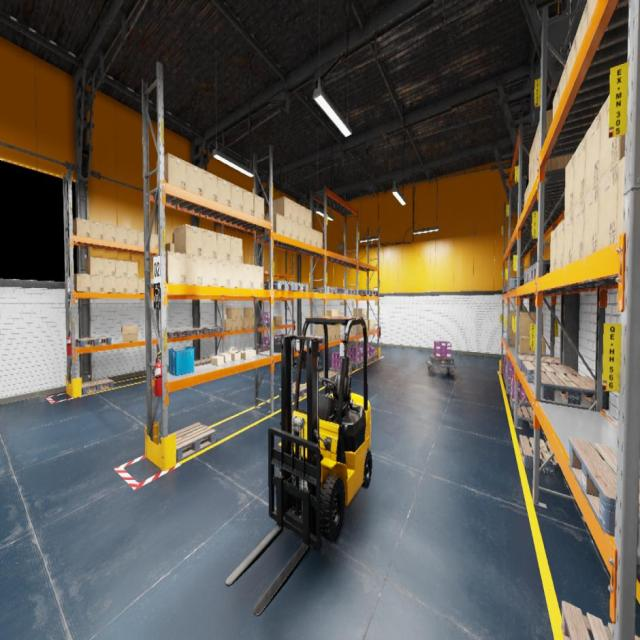box: (599, 95, 625, 182), (598, 164, 618, 250), (585, 109, 600, 197), (584, 183, 599, 257), (156, 153, 186, 190), (156, 250, 186, 284), (573, 133, 586, 209), (546, 137, 574, 171), (175, 224, 202, 257), (573, 199, 584, 262), (538, 109, 552, 158), (576, 0, 588, 57), (617, 156, 625, 241), (564, 152, 574, 218), (520, 313, 544, 337), (186, 162, 203, 195), (519, 336, 545, 356), (564, 210, 573, 266), (567, 32, 577, 82), (187, 254, 202, 285), (202, 228, 217, 258), (203, 170, 217, 202), (265, 213, 284, 236), (217, 176, 231, 206), (273, 196, 291, 219), (203, 257, 217, 286), (556, 219, 564, 269), (217, 232, 230, 261), (230, 236, 243, 264), (217, 260, 230, 286), (86, 257, 104, 275), (73, 218, 90, 237), (550, 228, 557, 272), (232, 183, 243, 211), (121, 325, 139, 342), (242, 263, 254, 288), (509, 310, 526, 327), (74, 273, 90, 291), (559, 61, 566, 102), (90, 220, 104, 240), (231, 262, 242, 287), (243, 189, 253, 215), (254, 194, 264, 219), (316, 325, 332, 340), (321, 309, 336, 325), (90, 275, 104, 292), (588, 0, 597, 26), (103, 259, 116, 276), (553, 83, 559, 119), (104, 223, 115, 242), (115, 260, 127, 277), (254, 266, 263, 288), (116, 226, 127, 244), (115, 276, 126, 293), (104, 276, 115, 293), (128, 277, 138, 294), (128, 228, 138, 245), (534, 126, 538, 166), (229, 346, 240, 360), (292, 200, 299, 222), (128, 262, 138, 277), (531, 138, 535, 175), (285, 217, 292, 238), (353, 308, 365, 320), (292, 220, 299, 240), (508, 328, 516, 345), (299, 204, 305, 226), (211, 355, 223, 365), (219, 352, 231, 362), (222, 319, 232, 331), (299, 223, 305, 242), (306, 226, 312, 245), (306, 208, 312, 227), (150, 234, 158, 248), (365, 319, 375, 330), (350, 323, 361, 333), (529, 147, 532, 182), (240, 350, 250, 360), (227, 308, 237, 318), (244, 349, 256, 357), (317, 232, 323, 248), (312, 228, 317, 247), (244, 308, 253, 318), (233, 308, 242, 318), (138, 278, 144, 293), (138, 231, 144, 246), (242, 318, 250, 329), (274, 316, 282, 325), (534, 160, 537, 183), (531, 168, 534, 190), (528, 176, 531, 196), (332, 325, 336, 340), (166, 243, 173, 251), (232, 319, 237, 330), (336, 326, 340, 339), (249, 318, 254, 328), (238, 318, 242, 329), (254, 318, 258, 328), (526, 183, 528, 202), (537, 157, 539, 175), (365, 320, 368, 332), (524, 190, 526, 207), (362, 321, 365, 332), (336, 309, 340, 316), (173, 232, 174, 243), (151, 279, 153, 283)
forklift: (276, 316, 372, 542)
pallets: (568, 437, 640, 540), (561, 601, 640, 639), (534, 370, 609, 410), (160, 422, 215, 462), (519, 434, 566, 480), (522, 360, 581, 383), (516, 354, 562, 370), (82, 378, 114, 395), (513, 404, 534, 429), (280, 383, 306, 401), (524, 267, 550, 284), (76, 337, 112, 348), (509, 392, 532, 409), (530, 262, 549, 281), (264, 280, 294, 290), (429, 355, 454, 365), (319, 371, 339, 383), (288, 282, 308, 292), (183, 328, 206, 336), (304, 336, 324, 345), (330, 366, 352, 374), (166, 330, 188, 338), (313, 286, 337, 293), (510, 278, 524, 289), (349, 359, 364, 368), (200, 327, 222, 333), (510, 282, 524, 291), (361, 290, 378, 296), (355, 290, 372, 295), (194, 359, 206, 366), (363, 356, 372, 364), (369, 354, 379, 361), (342, 289, 355, 294), (258, 323, 274, 327), (199, 358, 210, 363), (337, 288, 345, 294), (258, 348, 270, 352), (506, 384, 511, 392), (252, 349, 262, 352), (502, 286, 506, 293), (504, 373, 506, 385), (504, 285, 507, 292), (503, 369, 505, 379)
